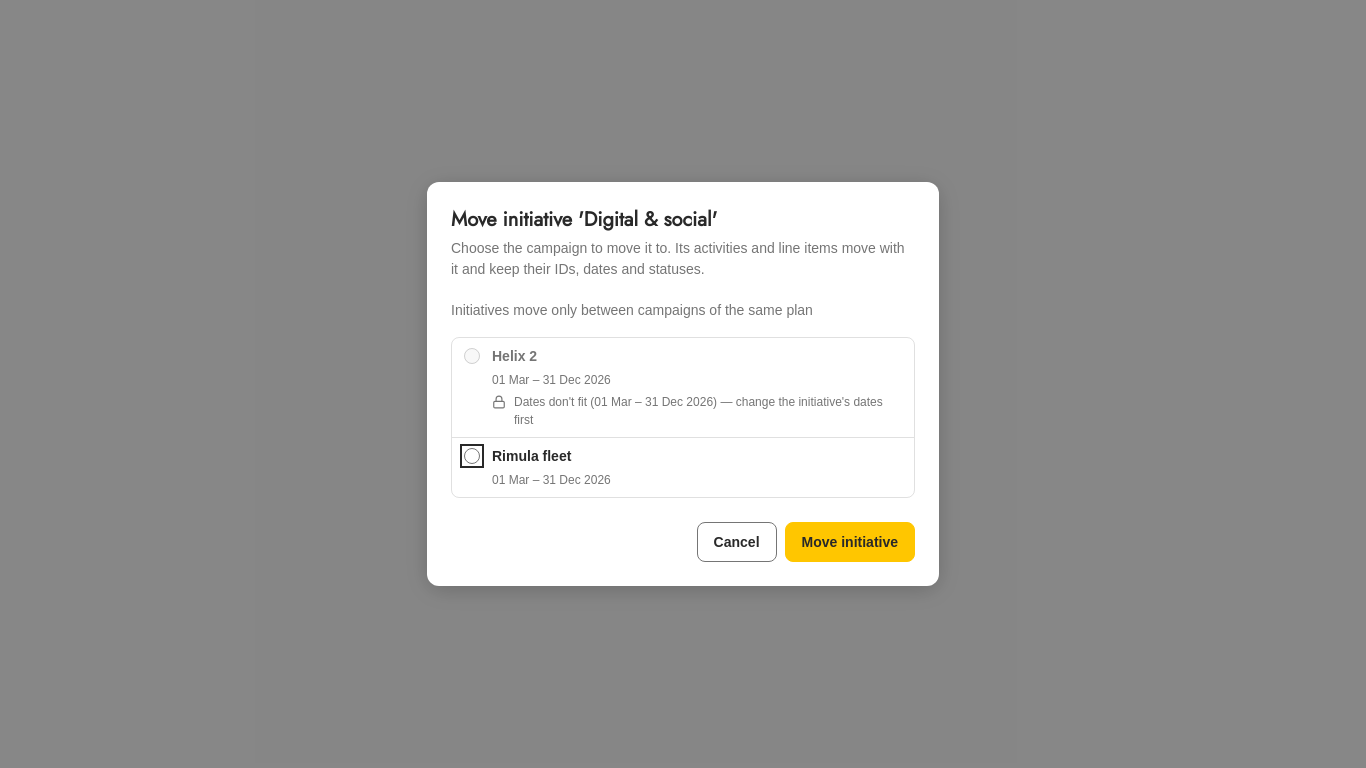
it: MoveDialog (feature 005, US6#1–3, FR-023 – FR-025) › lists a destination that can’t take it, with the reason and the fix (US6#2, FR-023)
Expected: the radio button labelled "Helix 2" is disabled, x1=464 y1=348 x2=480 y2=364
Click the button "Move initiative".
click(850, 542)  # box x1=784 y1=522 x2=915 y2=562
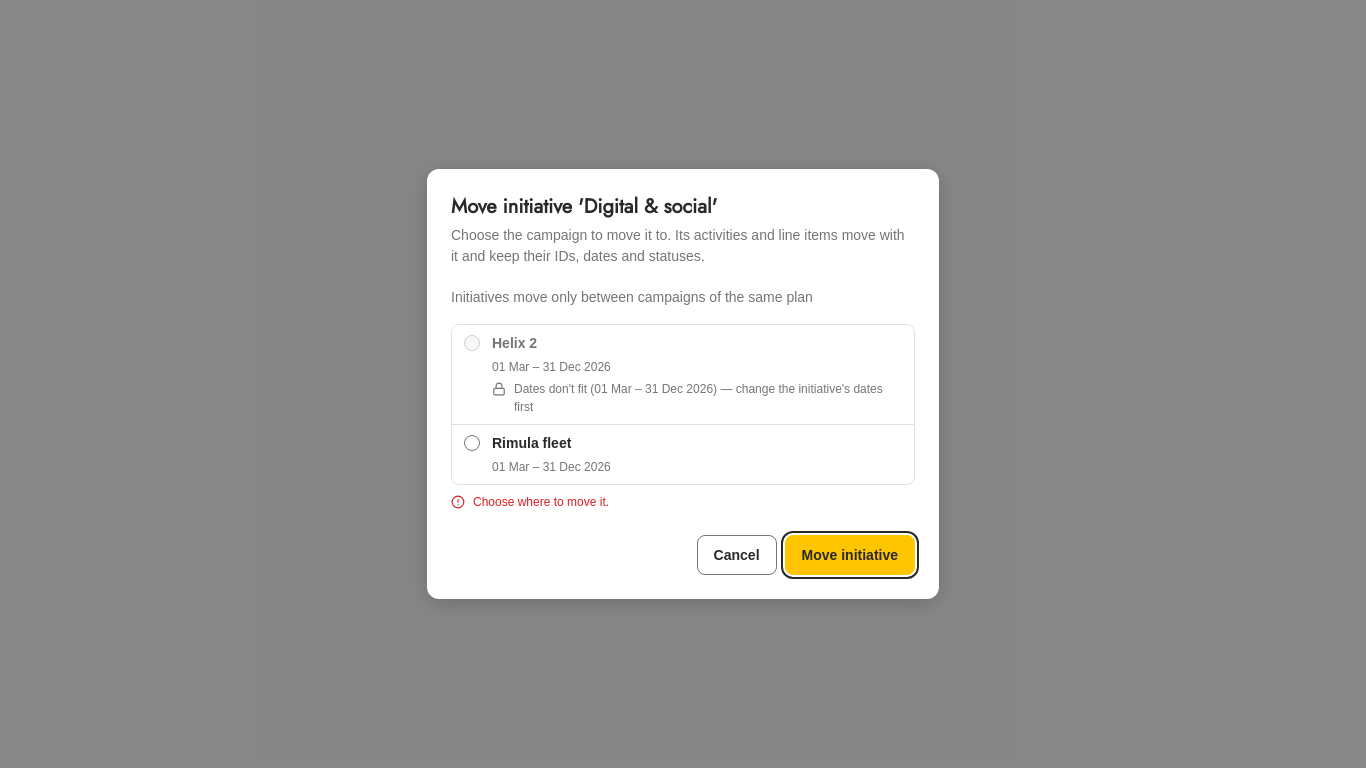
Expected: the text "Choose where to move it." is shown, x1=451 y1=495 x2=609 y2=509
Click the radio button labelled "Rimula fleet".
click(472, 443)  # box x1=464 y1=435 x2=480 y2=451
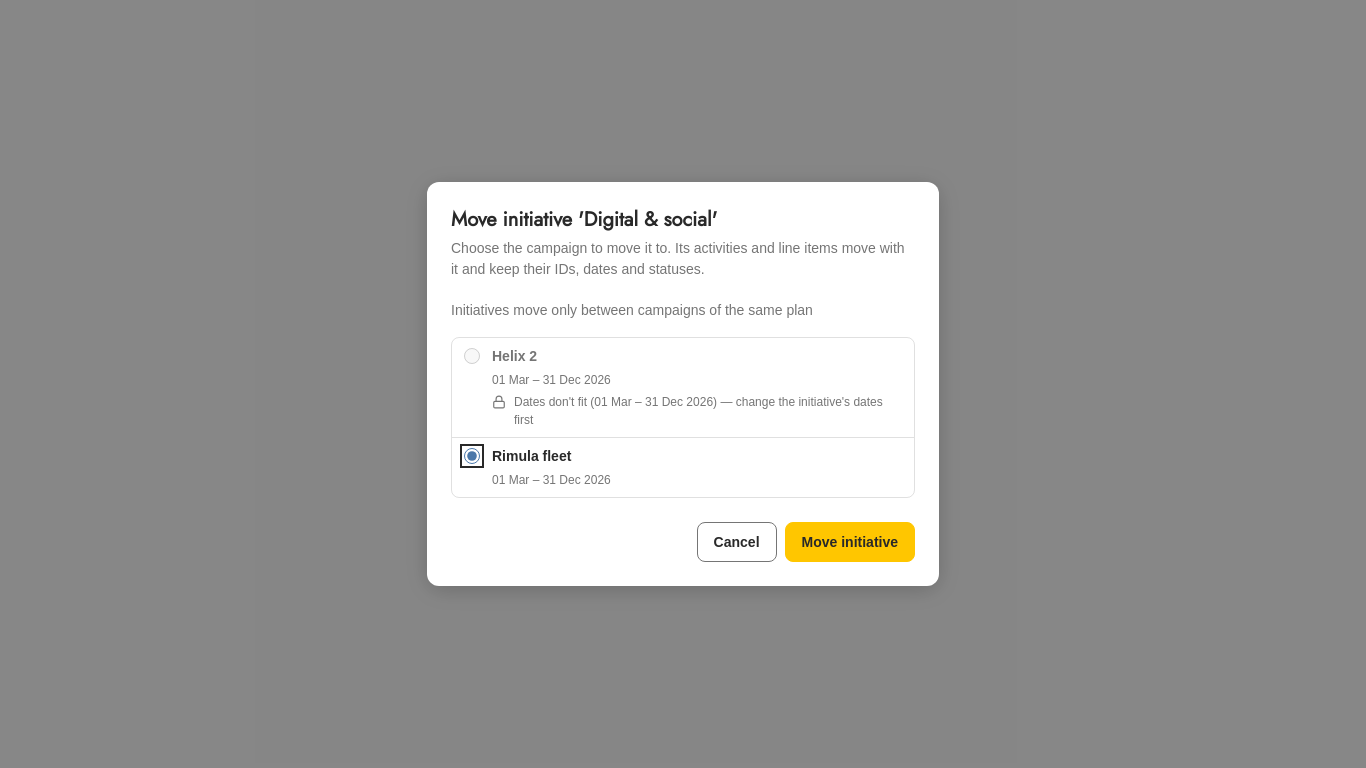
Expected: the text "Choose where to move it." is gone
